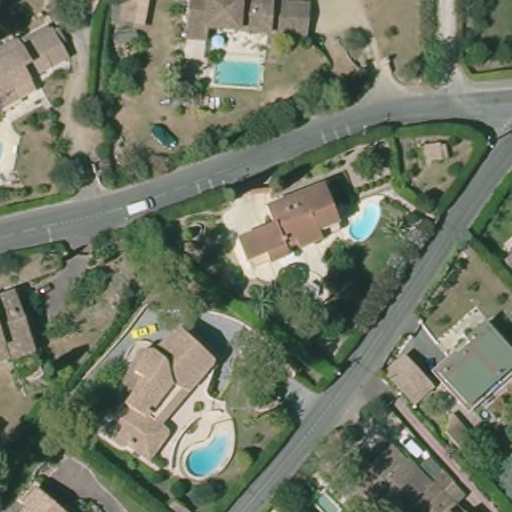pool: (173, 424, 241, 487), (207, 50, 269, 97), (349, 198, 384, 245)
